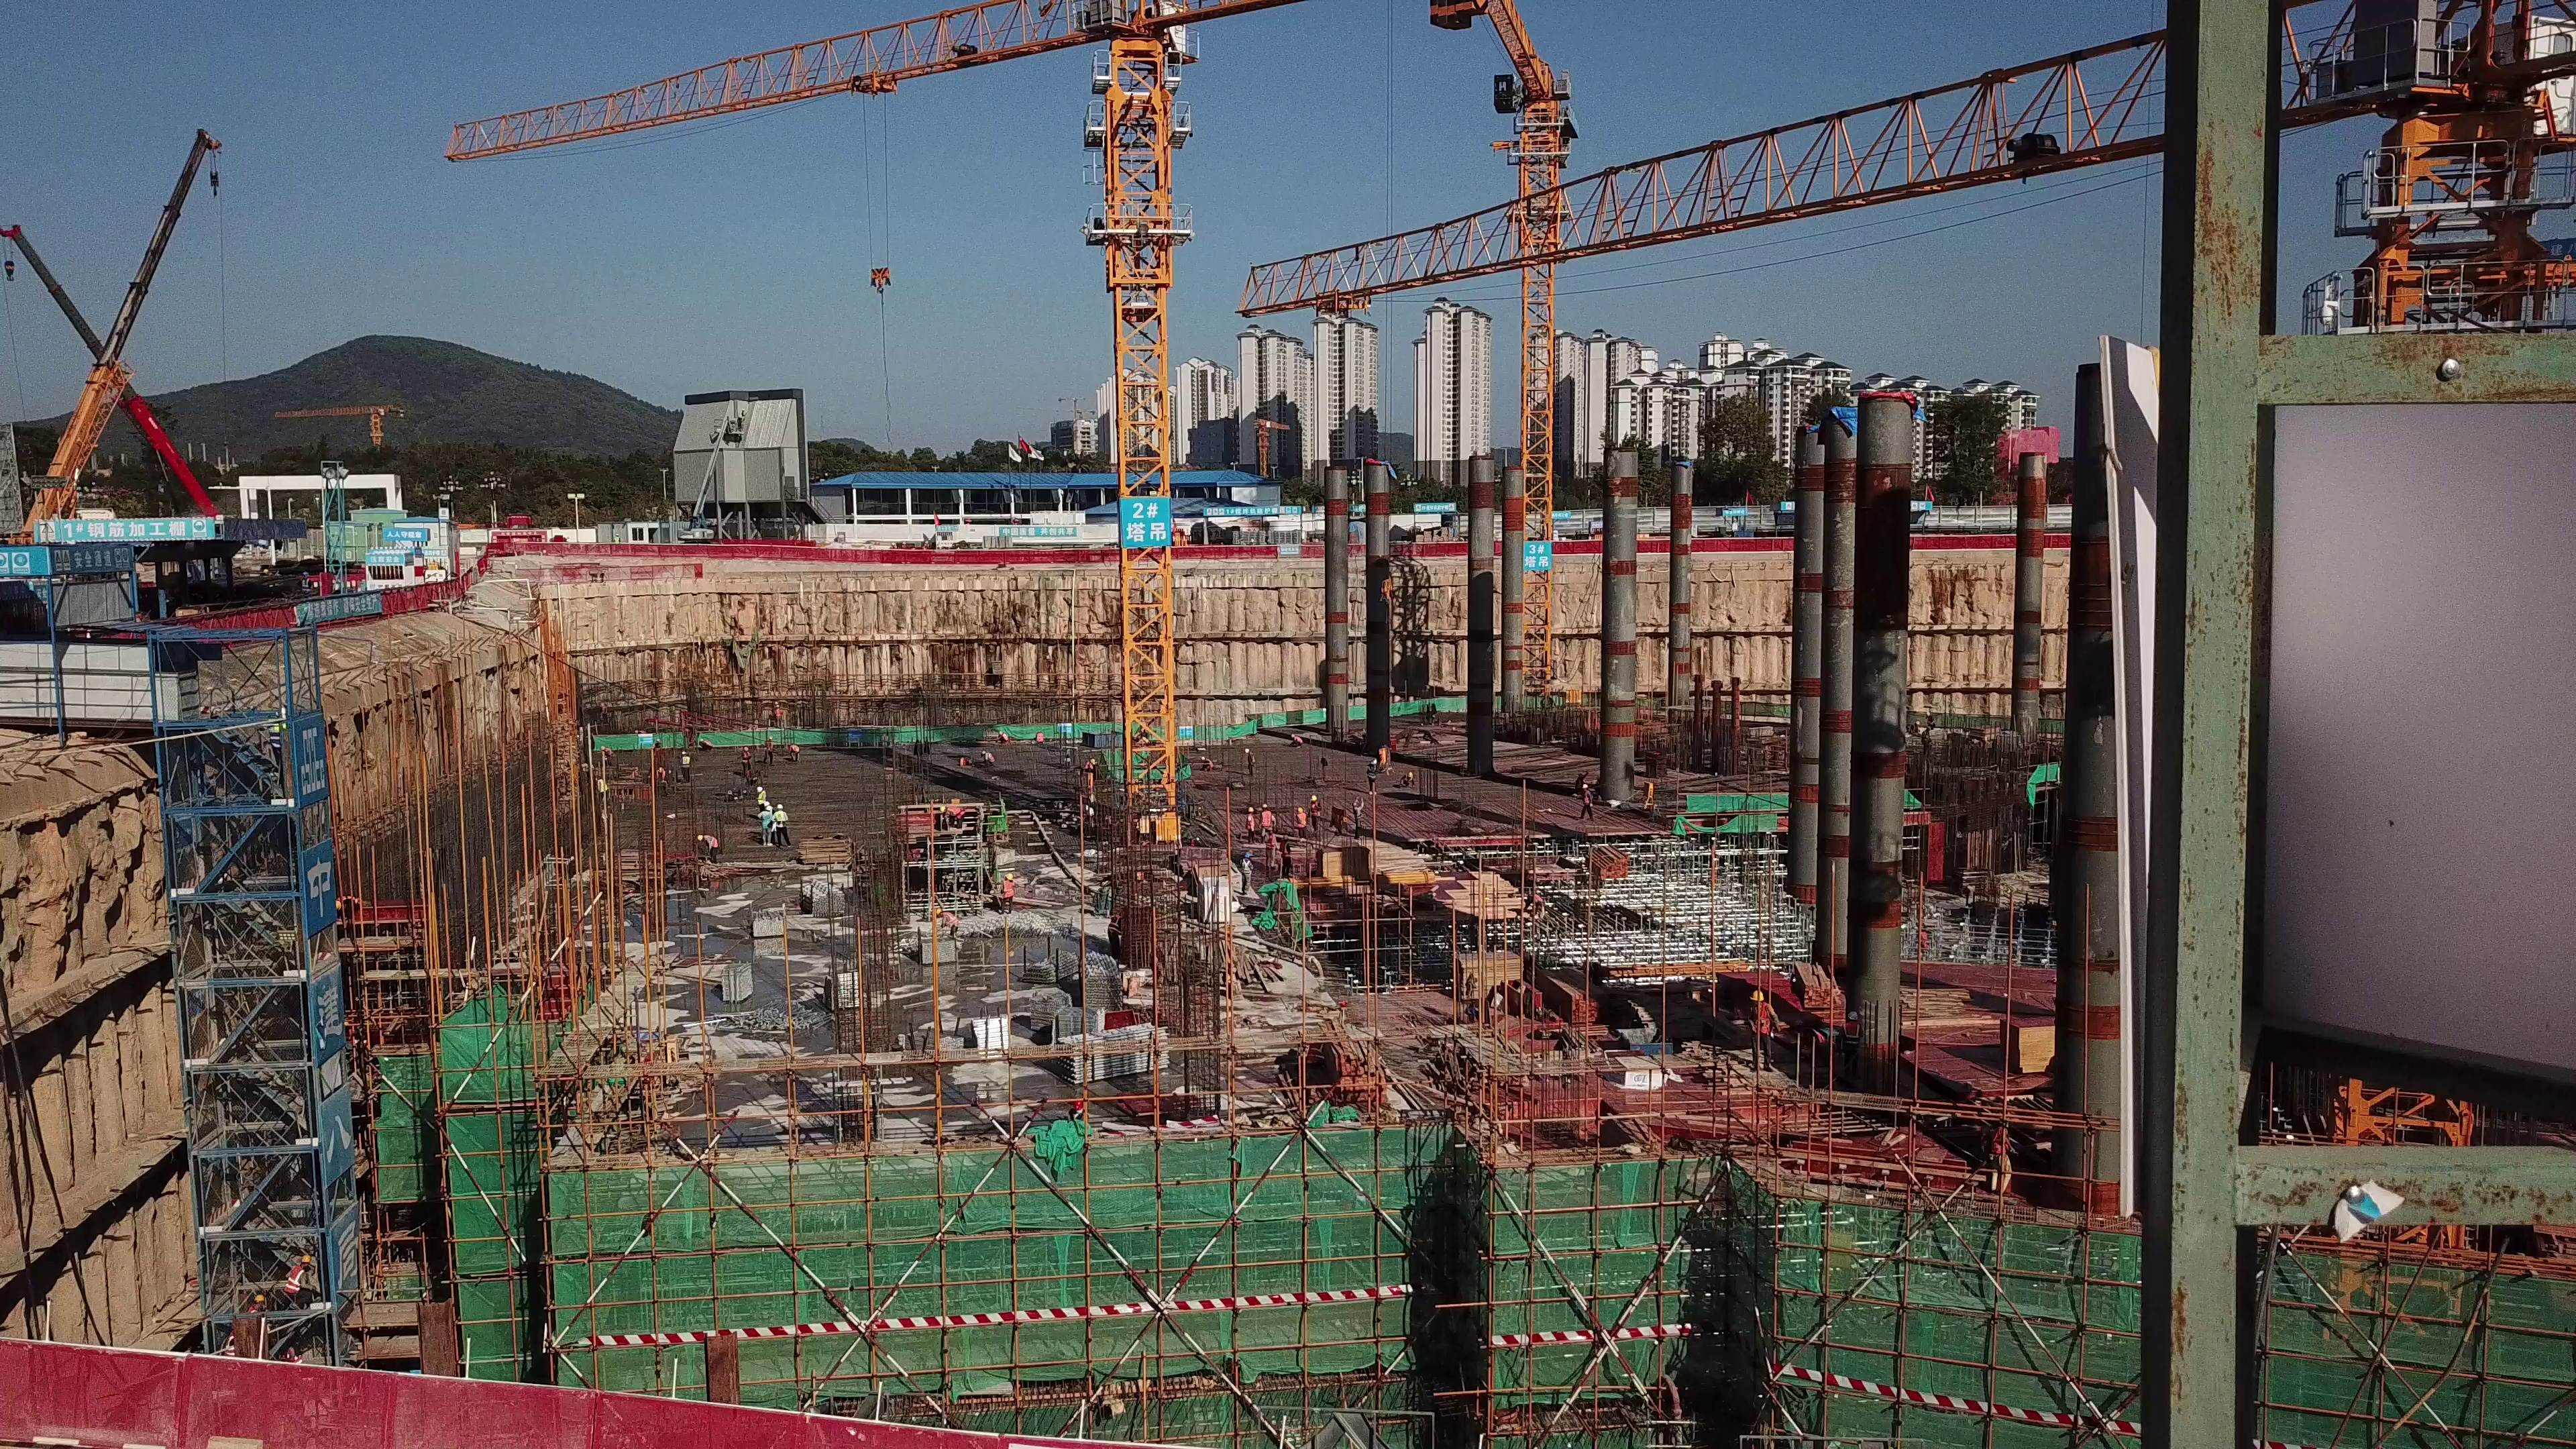board: (1446, 949, 1527, 1001), (2001, 1011, 2058, 1082), (1319, 845, 1374, 883)
helmet: (759, 802, 785, 814), (1750, 986, 1766, 1004), (1003, 870, 1016, 881)
hook: (859, 270, 906, 301)
person: (1744, 983, 1780, 1077), (1989, 1112, 2011, 1205), (930, 906, 961, 938), (772, 802, 791, 848), (1000, 870, 1018, 918), (938, 802, 966, 828), (696, 833, 720, 865), (1263, 828, 1279, 875), (1260, 799, 1276, 842), (1309, 791, 1323, 832), (1294, 803, 1305, 845), (1243, 745, 1258, 781), (761, 806, 771, 848), (1243, 802, 1255, 842), (1287, 732, 1303, 755), (758, 787, 767, 803)
scaffold: (1052, 1022, 1175, 1079)
